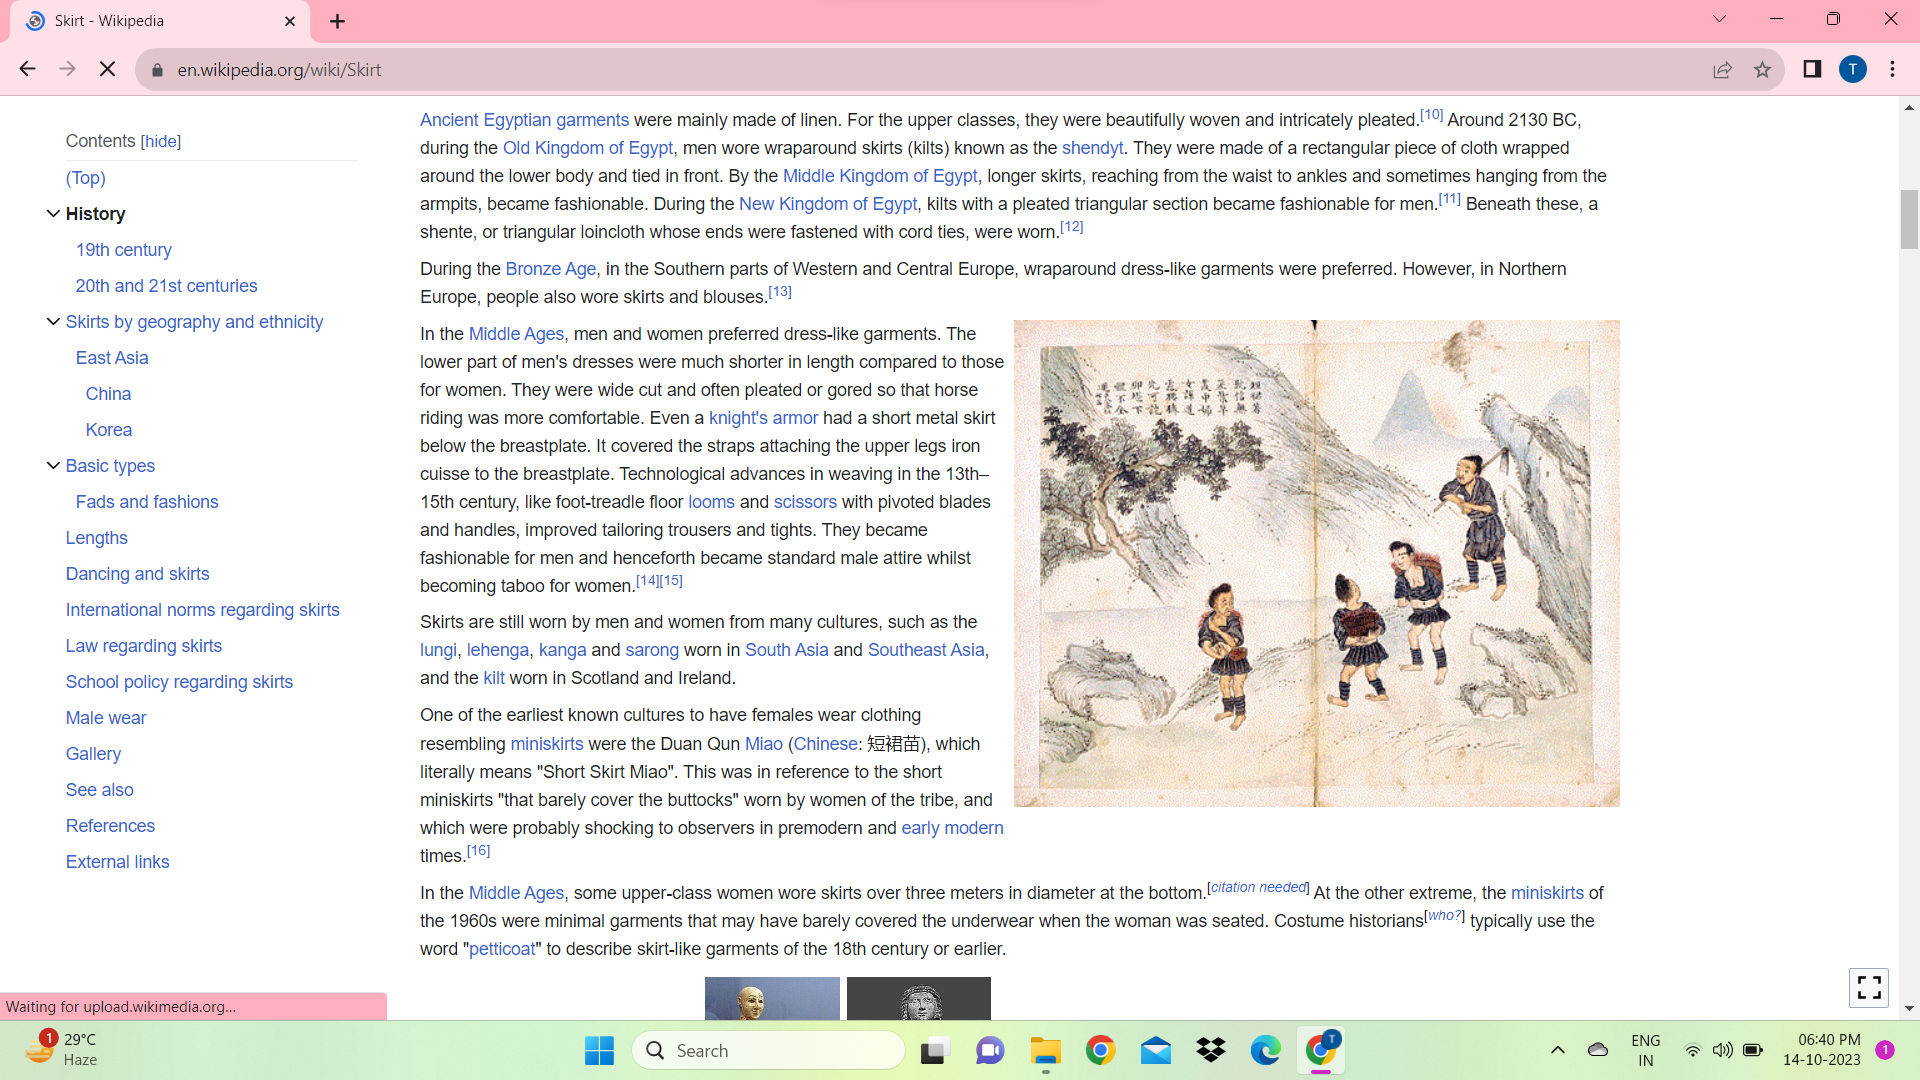Image: (1010, 319, 1629, 815)
Paragraph: (411, 102, 1629, 245), (400, 323, 1007, 597), (404, 878, 1644, 969), (407, 708, 1007, 869), (417, 251, 1585, 315), (414, 608, 1011, 699), (57, 587, 353, 632), (54, 667, 298, 699), (67, 272, 285, 306), (71, 483, 231, 522), (57, 630, 224, 665), (61, 116, 207, 153), (61, 315, 336, 332), (69, 237, 196, 272), (61, 556, 218, 584), (57, 808, 166, 841), (65, 851, 186, 878), (58, 703, 153, 733), (58, 454, 166, 475), (57, 525, 138, 553), (61, 199, 138, 228), (47, 162, 128, 190), (69, 347, 160, 369), (74, 418, 149, 444), (61, 737, 133, 764), (65, 777, 136, 803), (78, 376, 136, 404)
